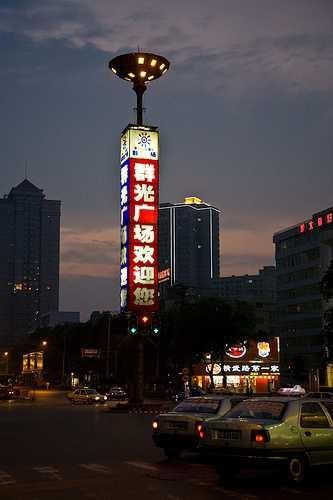green: (150, 313, 161, 335), (127, 314, 138, 335)
red: (138, 314, 149, 336)
